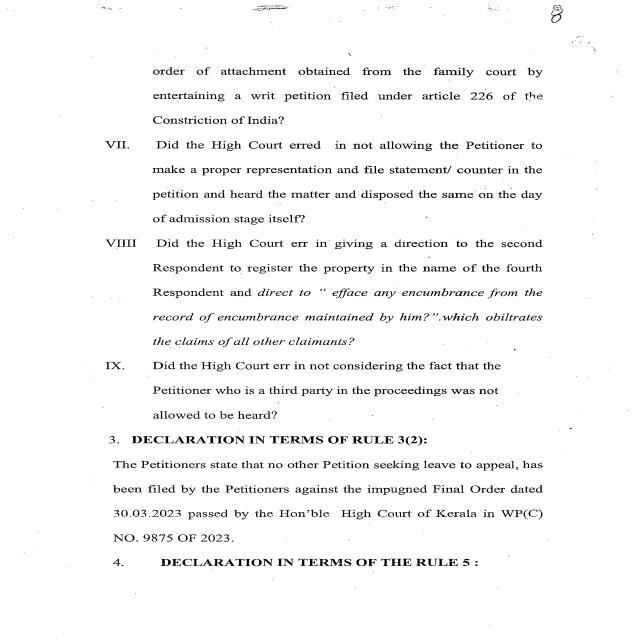page-number: (434, 0, 640, 65)
